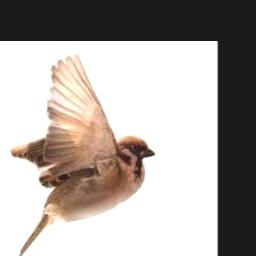Sparrow: (11, 52, 155, 256)
